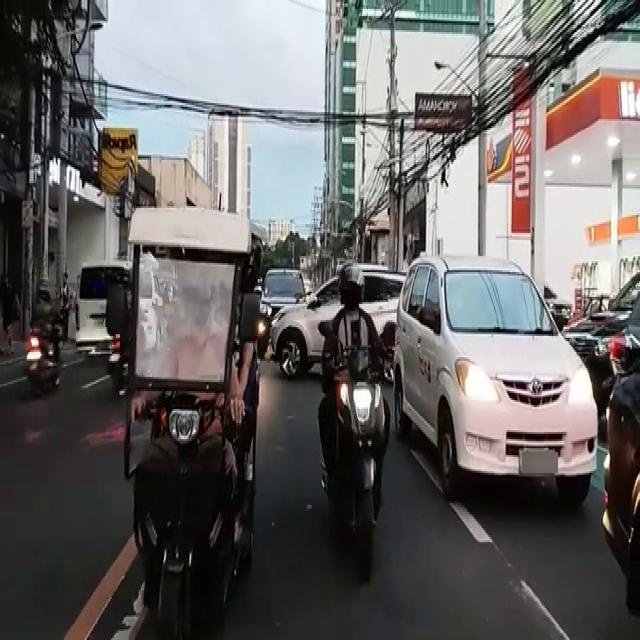car: (402, 274, 583, 504), (260, 271, 306, 352)
motorcycle: (127, 220, 253, 620), (320, 266, 386, 578), (16, 274, 68, 399)
